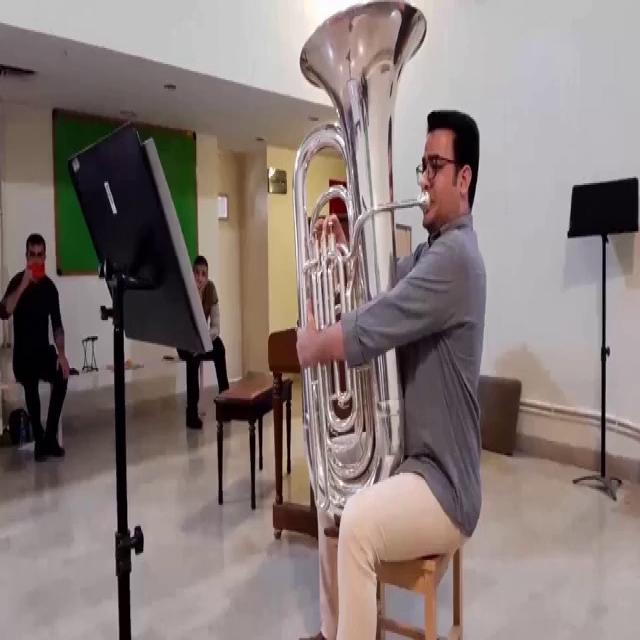Tuba: (292, 0, 424, 518)
